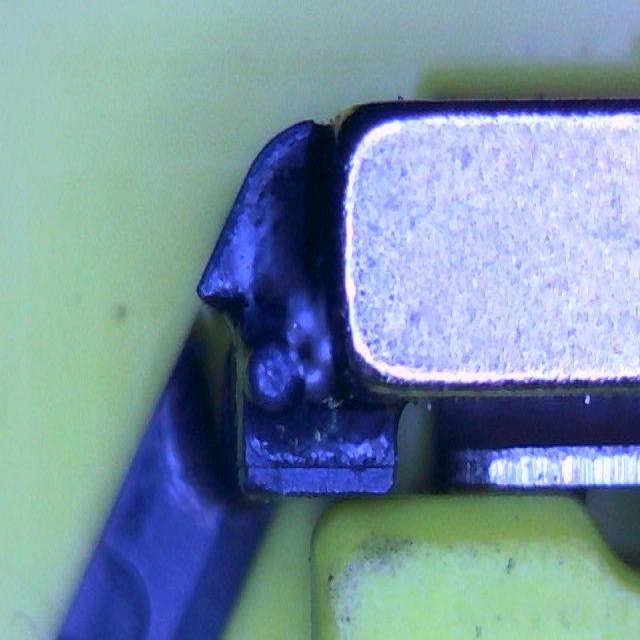over: (240, 148, 338, 394)
